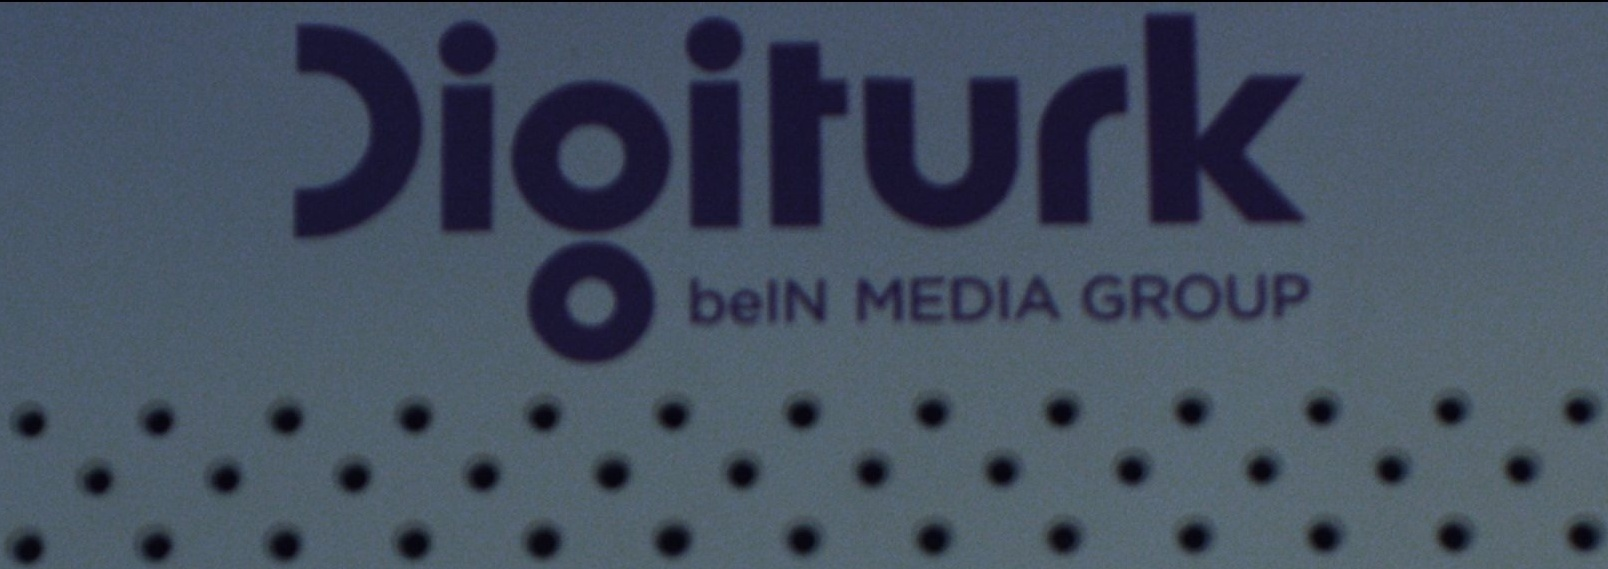BW_H168ADigiturk: (274, 4, 1367, 377)
